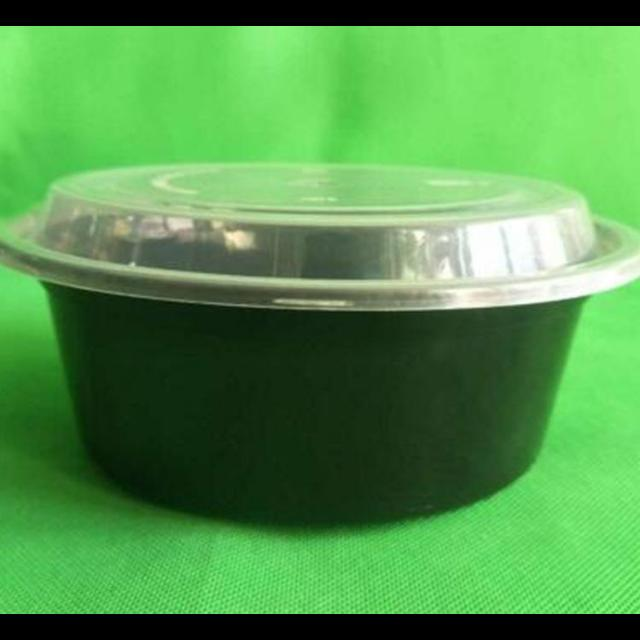plastic_box: (1, 134, 639, 528)
